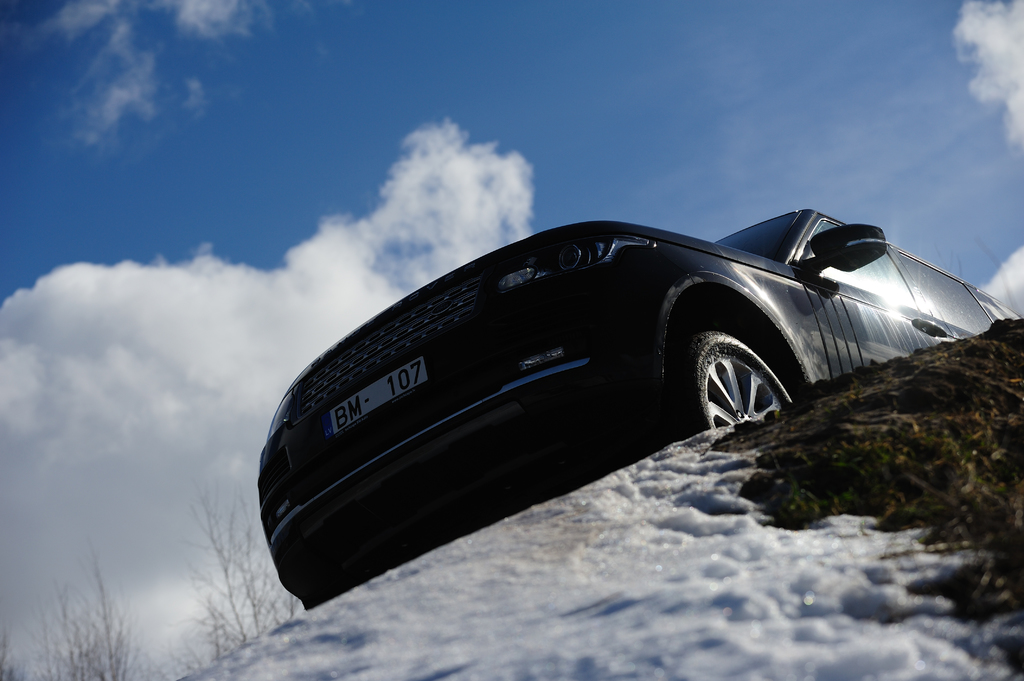Car: (256, 202, 1023, 610)
